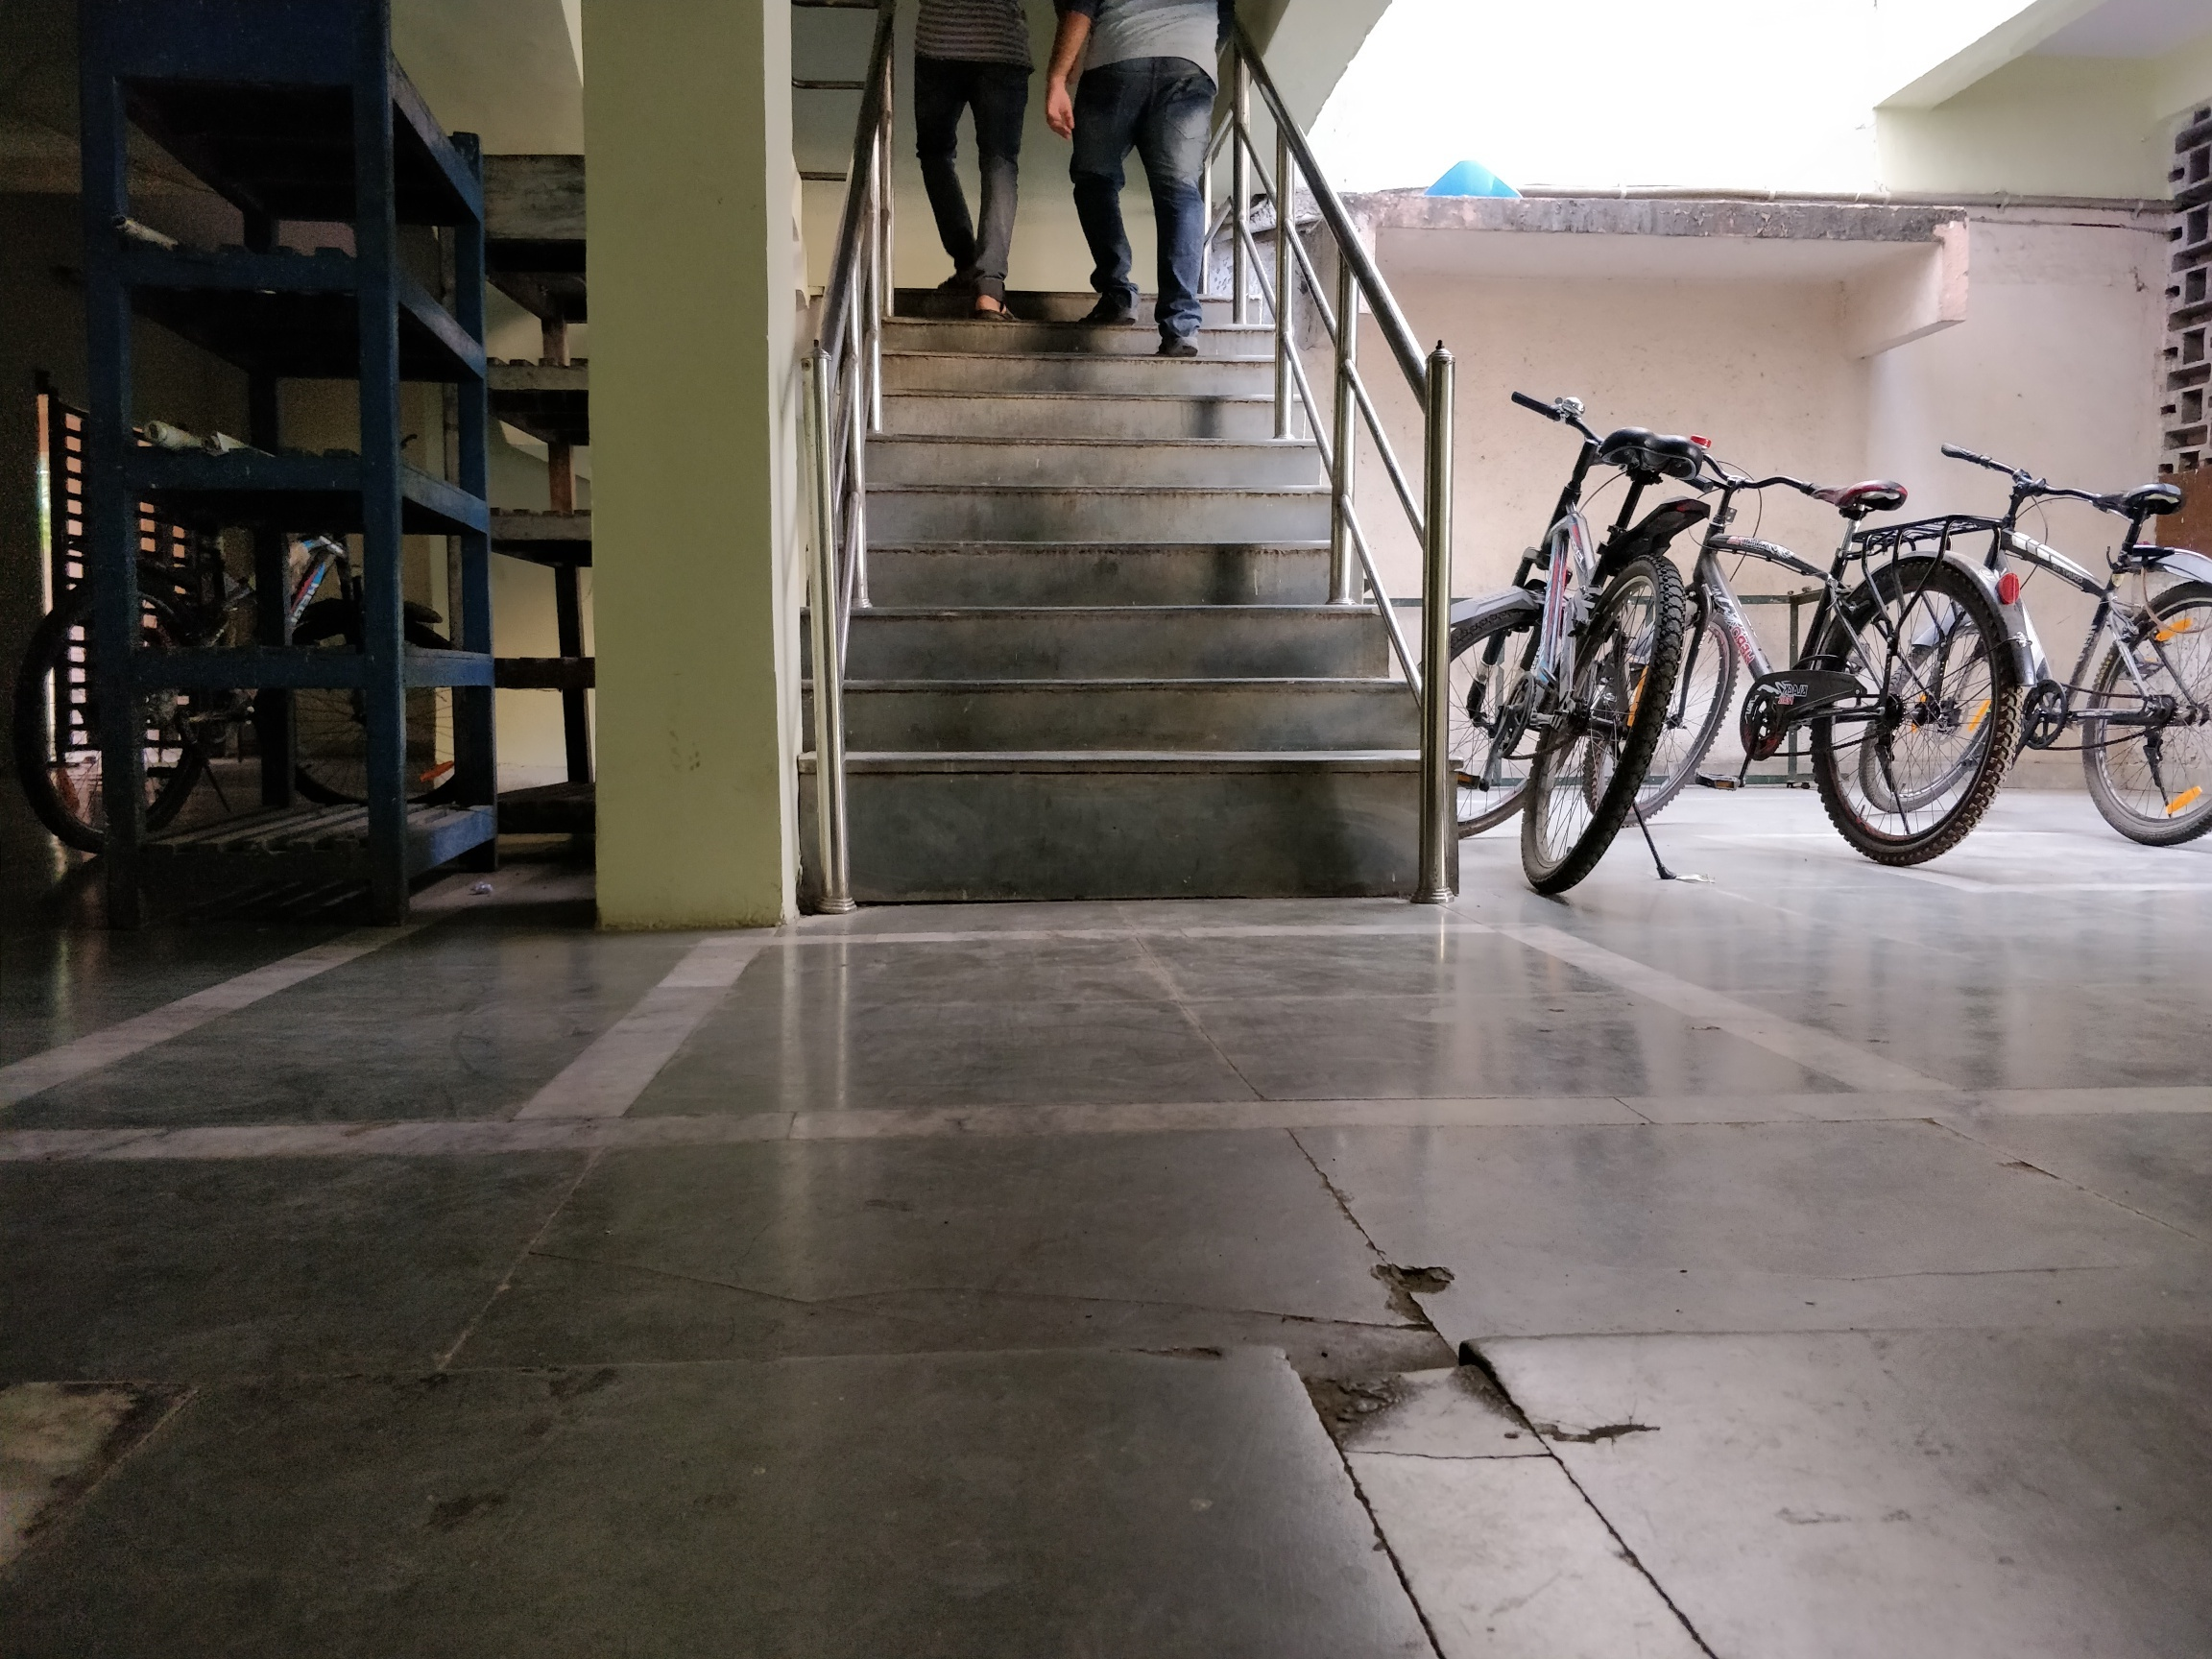stairs_up: (864, 350, 1439, 899)
